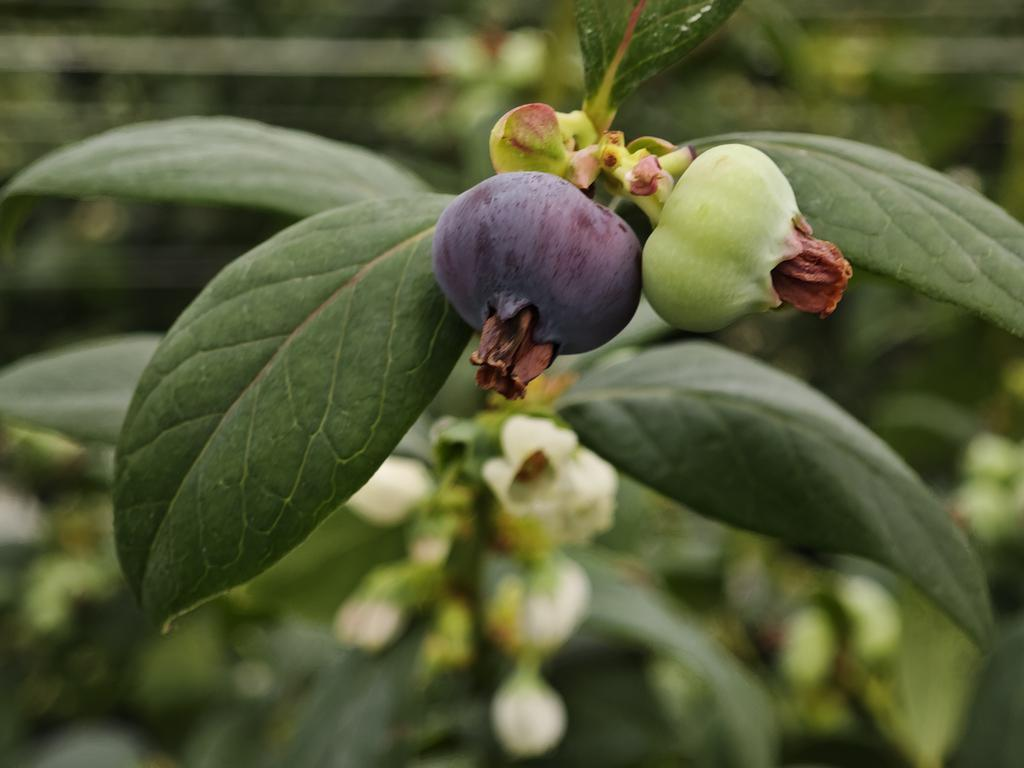RipeBlueBerry: (420, 168, 644, 363)
UnripeBlueBerry: (643, 138, 810, 336)
